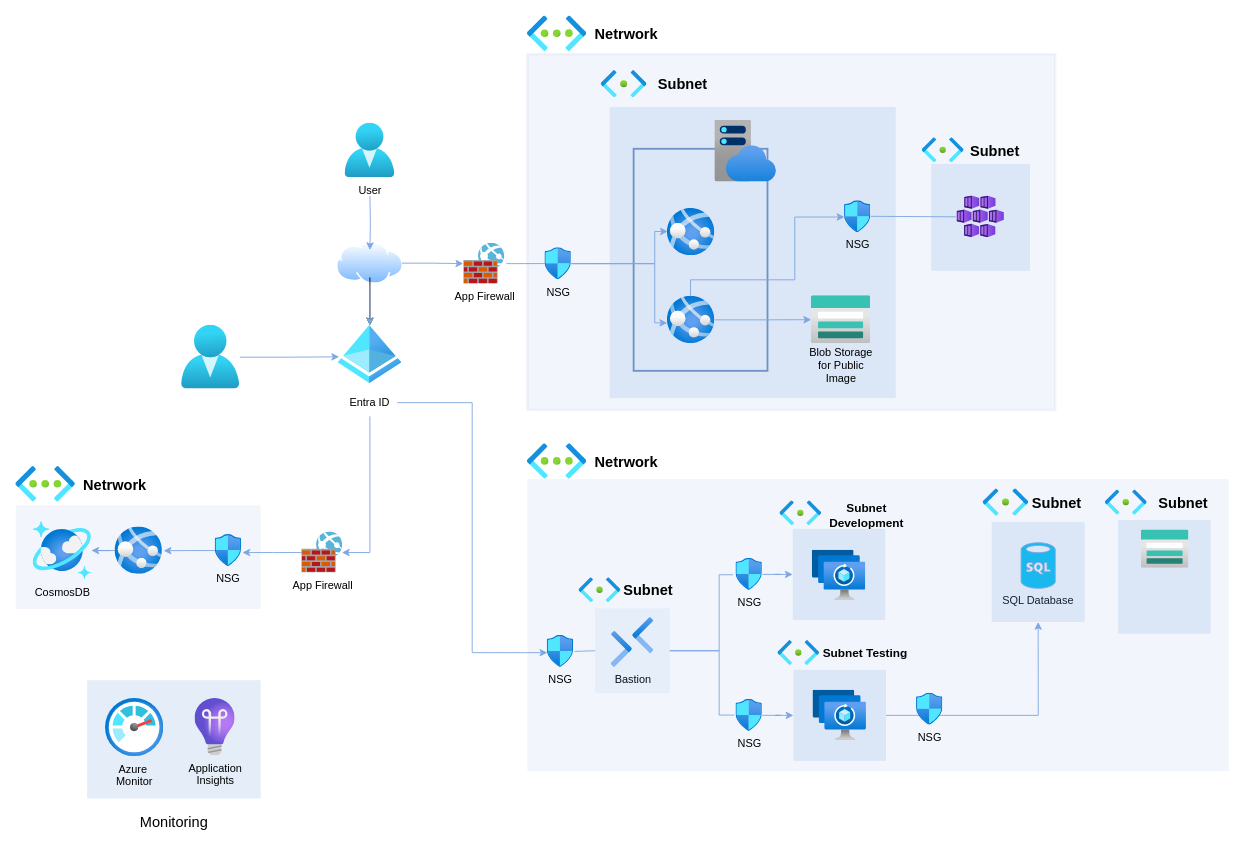
Some shapes in this 1244 by 852 pixel diagram are drawn without their labels. The shapes that lost their labels are listed below. From the top down, each one's box as (x1, y1, x2, y2) in pixels, then its label:
(714, 120, 776, 182): Azure Service Plan
(667, 208, 714, 255): Public API
(957, 195, 1004, 237): Kubernetes
(336, 241, 403, 284): Internet
(667, 296, 714, 343): Website
(181, 325, 239, 389): Users on premise
(115, 526, 162, 574): REST API
(1141, 529, 1188, 568): Storage Acoount Server Log
